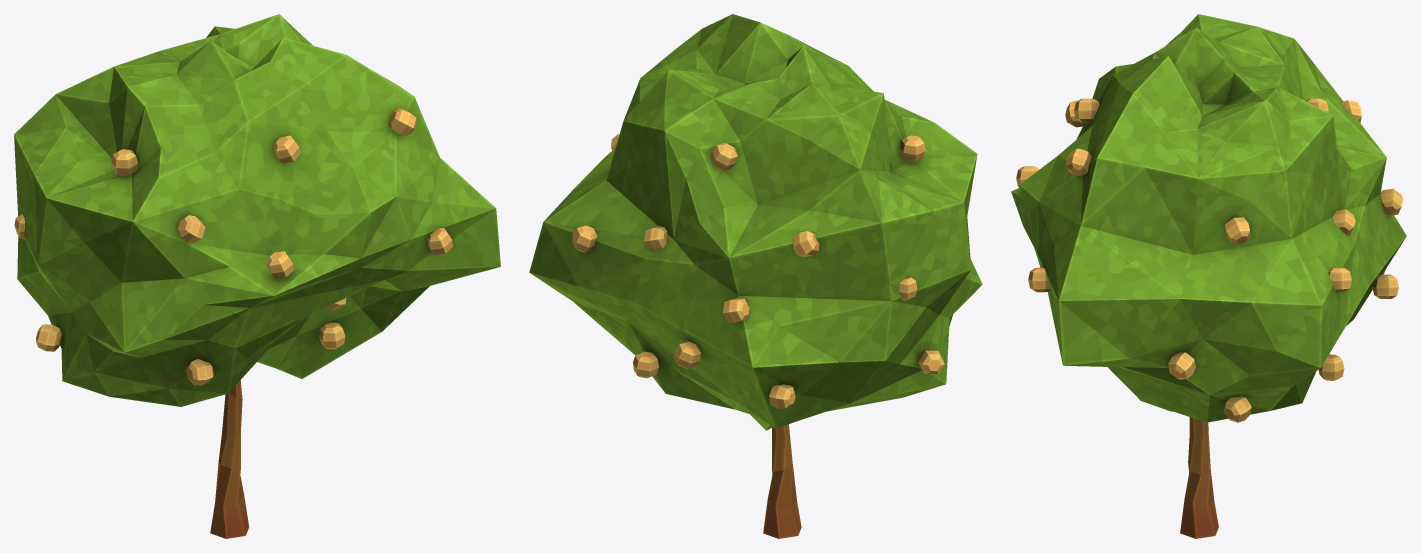
Rendered from orange-tree.glb.
3 renders of one model, left to right at view 1: azimuth 30°, elevation 25°; view 2: azimuth 150°, elevation 25°; view 3: azimuth 270°, elevation 25°, orthographic.
Parts seen in each view (by area): view 1: OrangeTree; view 2: OrangeTree; view 3: OrangeTree.
Part boxes in pixels (<box>): OrangeTree: <box>14,14,500,538</box>; OrangeTree: <box>529,14,982,538</box>; OrangeTree: <box>1011,14,1406,538</box>.
Size of the model in its own units: 10.67 by 12.8 by 9.31.
1 material, 1 textured.
